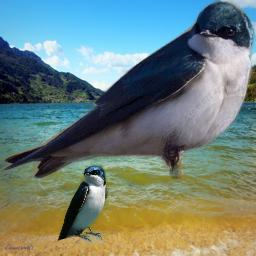Swallow: (0, 0, 255, 179), (58, 164, 109, 243)
